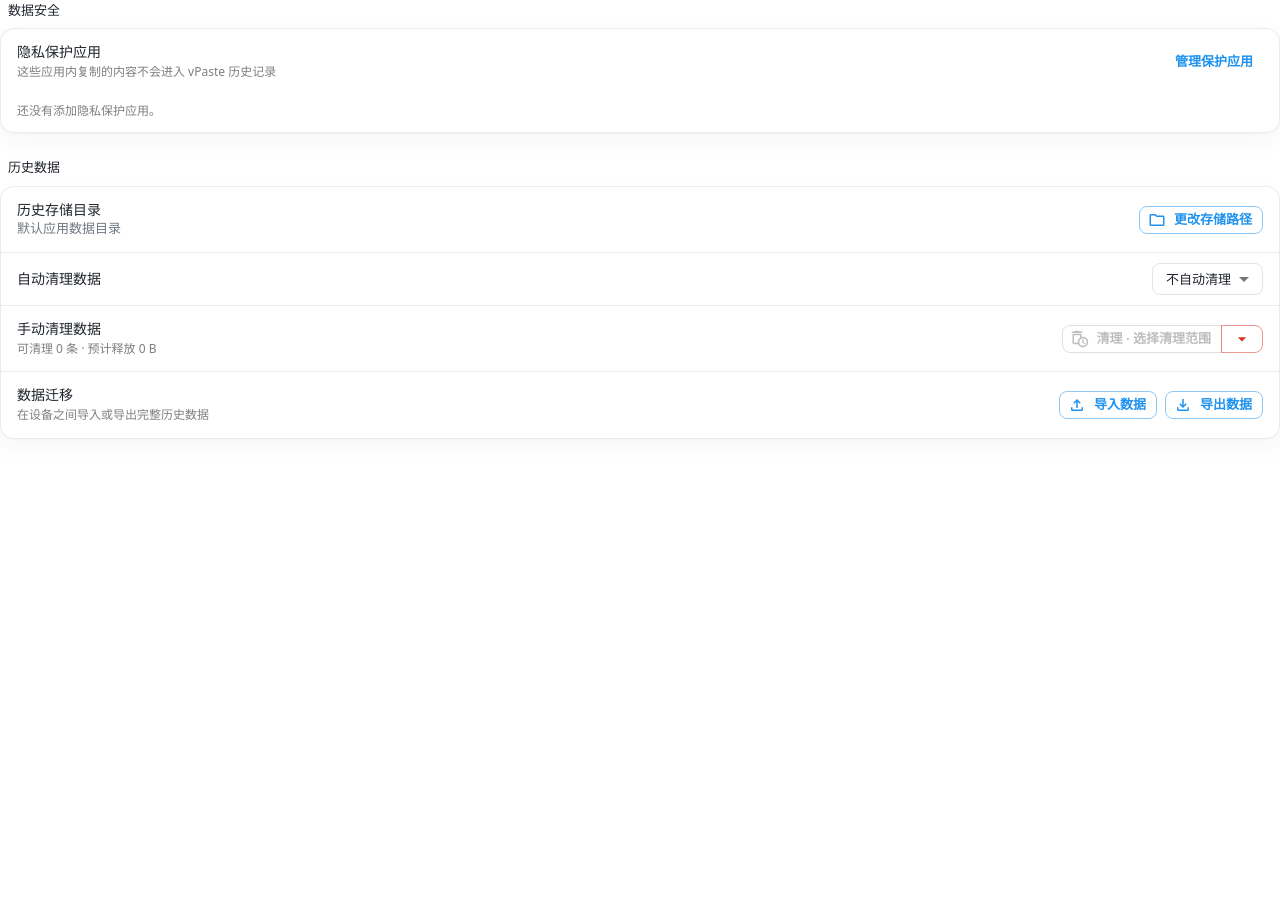
Test: Data settings actions › shows only the empty-state instruction when no privacy apps are available
Click the button "管理保护应用" at (1214, 62), box [1165,48,1263,76]
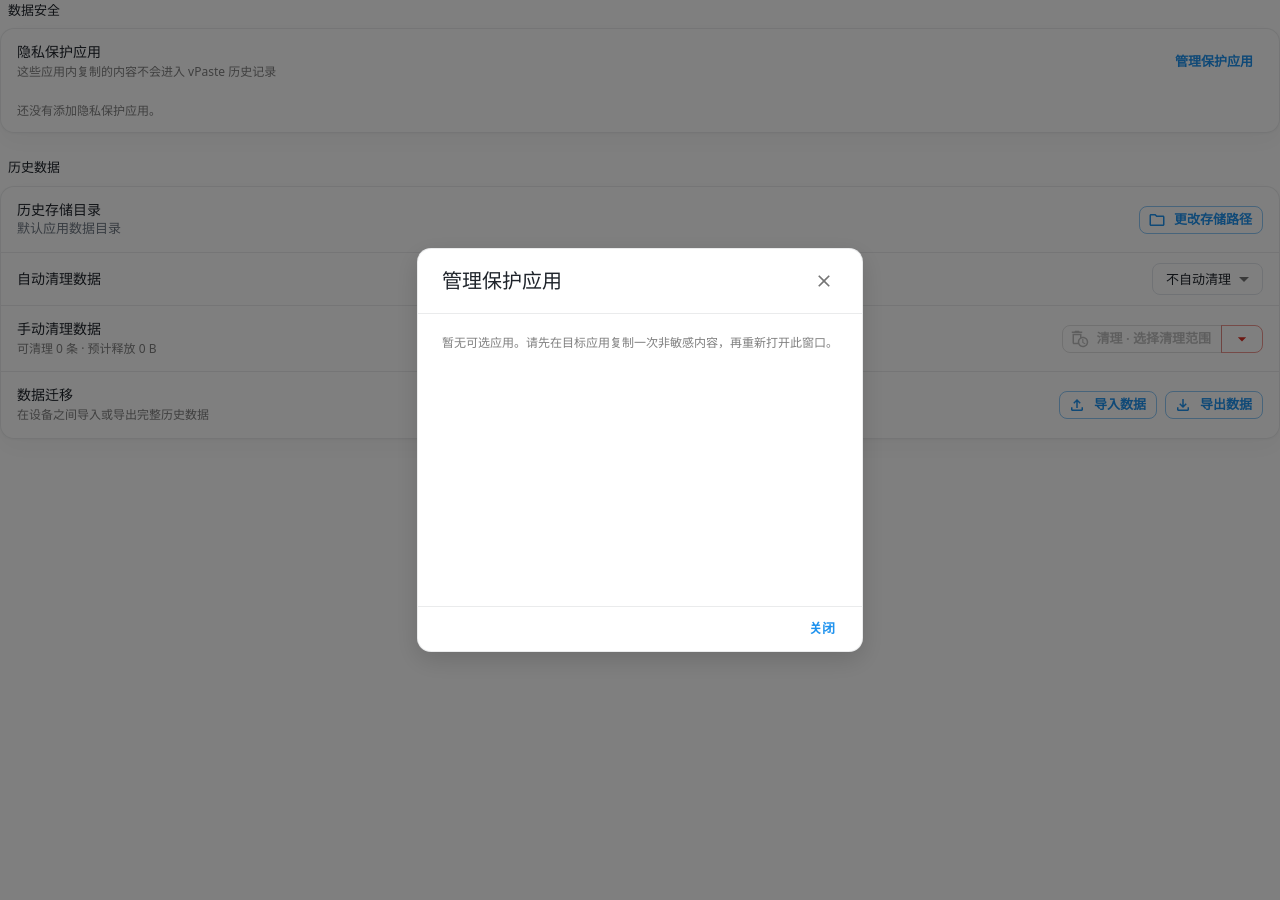
Now the text "暂无可选应用。请先在目标应用复制一次非敏感内容，再重新打开此窗口。" is shown, box [442,330,838,356]
